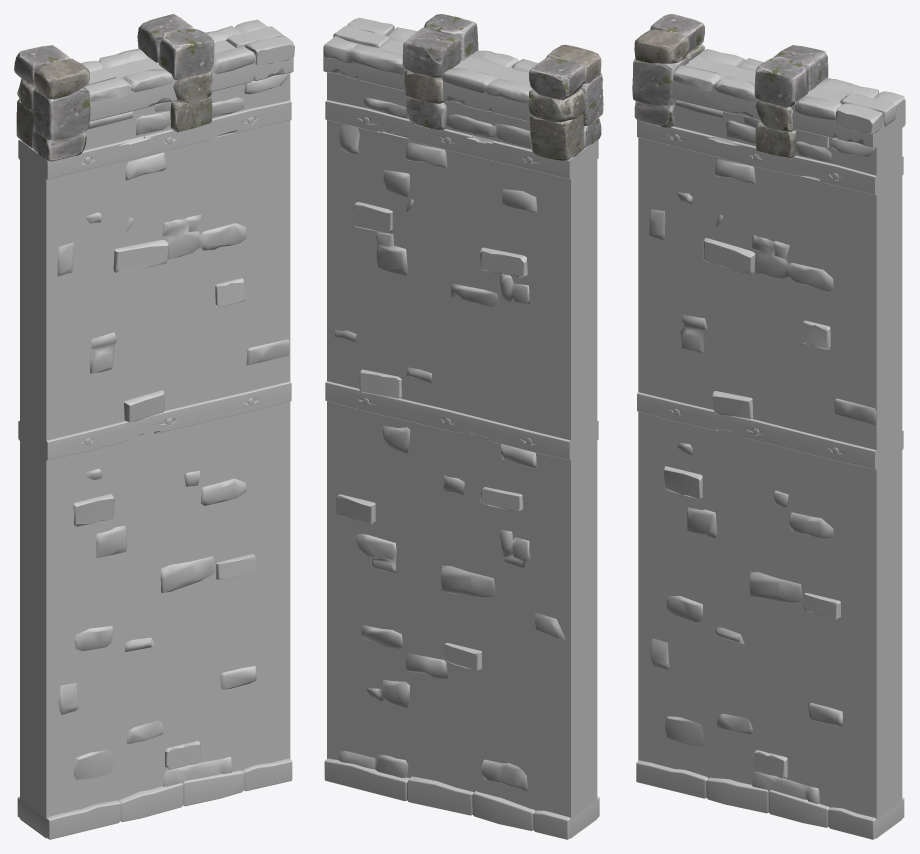
3 views of the same model, side by side, from view 1: azimuth 30°, elevation 25°; view 2: azimuth 150°, elevation 25°; view 3: azimuth 330°, elevation 25° (orthographic). The views are drawn at different scales.
Visible parts, largest first — view 1: SM_Castle_Wall_4x12_01_v3_LOD0; view 2: SM_Castle_Wall_4x12_01_v3_LOD0; view 3: SM_Castle_Wall_4x12_01_v3_LOD0.
Boxes of the visible parts, x1,y1,x2,y2 form: SM_Castle_Wall_4x12_01_v3_LOD0: (14, 14, 294, 839); SM_Castle_Wall_4x12_01_v3_LOD0: (323, 14, 603, 839); SM_Castle_Wall_4x12_01_v3_LOD0: (632, 14, 905, 839).
Bounding box in the file's own units: 4.06 × 11.97 × 1.1.
